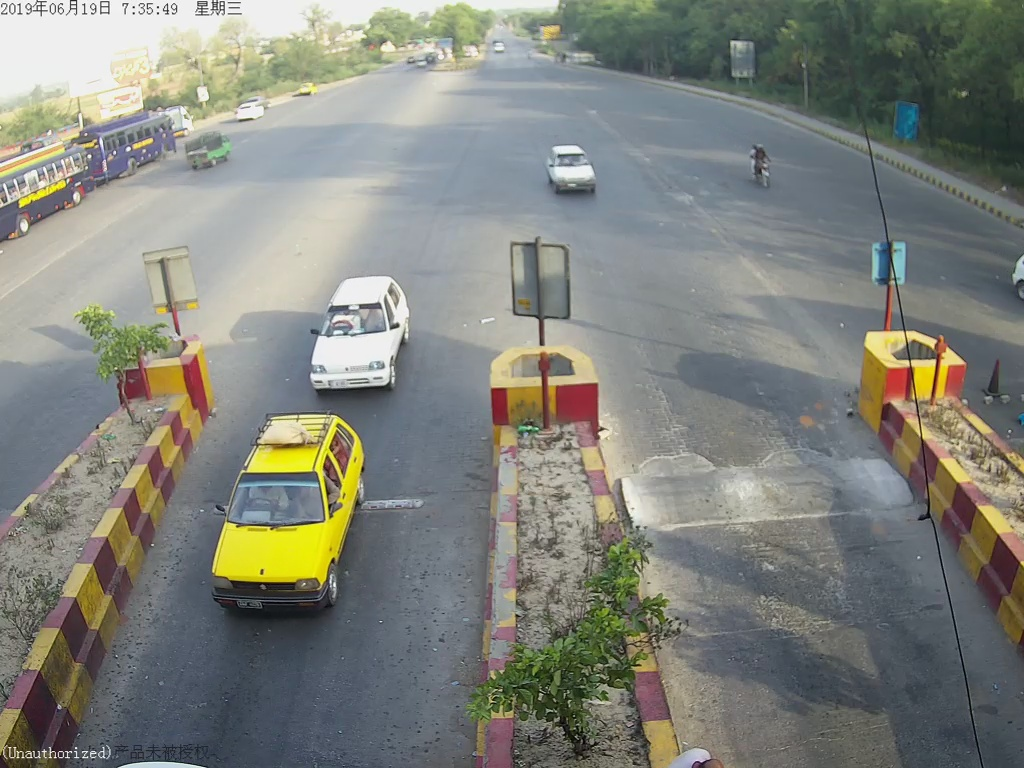Cat-1: (206, 417, 373, 613), (306, 268, 417, 393), (543, 137, 604, 196)
